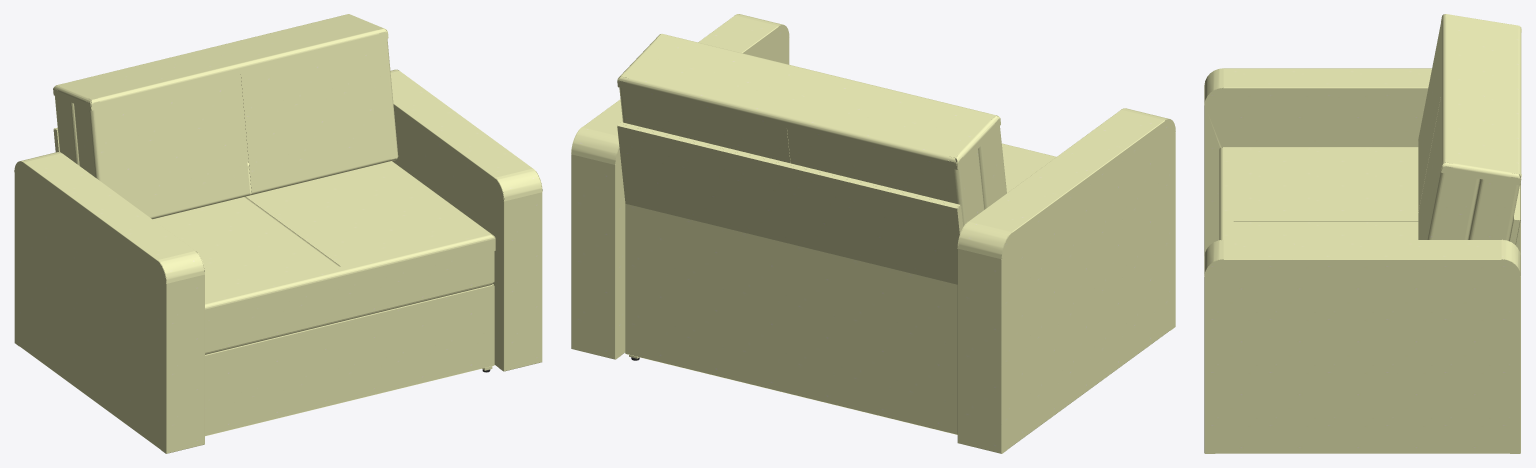
3 views of the same model, side by side, from view 1: azimuth 30°, elevation 25°; view 2: azimuth 150°, elevation 25°; view 3: azimuth 270°, elevation 25° (orthographic). The views are drawn at different scales.
Parts seen in each view (by area): view 1: b36886ae-b8fb-4cd8-a541-e578a9d2c7f1, 1f130311-0273-4385-9263-49d9cd9d75d5, 7f25a376-ff9c-458e-9412-e5786ae3ece7; view 2: 7f25a376-ff9c-458e-9412-e5786ae3ece7, 1f130311-0273-4385-9263-49d9cd9d75d5, b36886ae-b8fb-4cd8-a541-e578a9d2c7f1; view 3: 1f130311-0273-4385-9263-49d9cd9d75d5, b36886ae-b8fb-4cd8-a541-e578a9d2c7f1, 7f25a376-ff9c-458e-9412-e5786ae3ece7.
Boxes of the visible parts, left/top/right/bottom form: b36886ae-b8fb-4cd8-a541-e578a9d2c7f1: left=53, top=14, right=495, bottom=354; 1f130311-0273-4385-9263-49d9cd9d75d5: left=14, top=69, right=542, bottom=453; 7f25a376-ff9c-458e-9412-e5786ae3ece7: left=53, top=127, right=494, bottom=436; 7f25a376-ff9c-458e-9412-e5786ae3ece7: left=617, top=122, right=963, bottom=434; 1f130311-0273-4385-9263-49d9cd9d75d5: left=571, top=14, right=1175, bottom=453; b36886ae-b8fb-4cd8-a541-e578a9d2c7f1: left=617, top=34, right=1056, bottom=226; 1f130311-0273-4385-9263-49d9cd9d75d5: left=1204, top=68, right=1520, bottom=453; b36886ae-b8fb-4cd8-a541-e578a9d2c7f1: left=1219, top=14, right=1521, bottom=240; 7f25a376-ff9c-458e-9412-e5786ae3ece7: left=1509, top=184, right=1520, bottom=244.
Bounding box in the file's own units: 1.26 × 0.8563 × 0.8859.
Materials: 2 (1 with a texture image).
